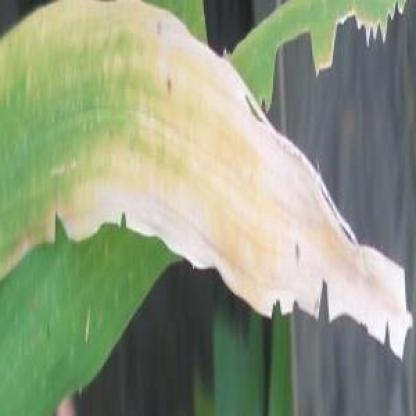Blight: (55, 1, 416, 377)
